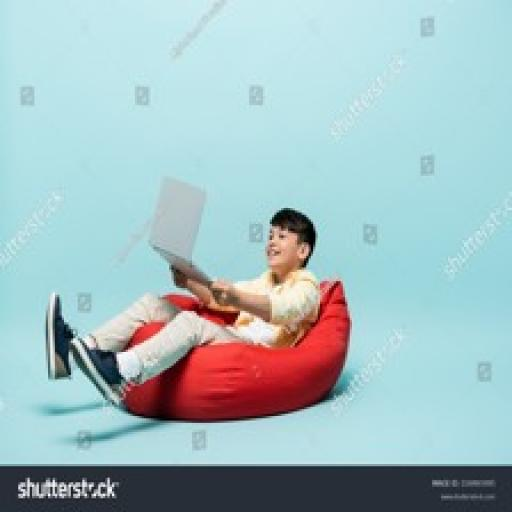human: (26, 199, 336, 412)
